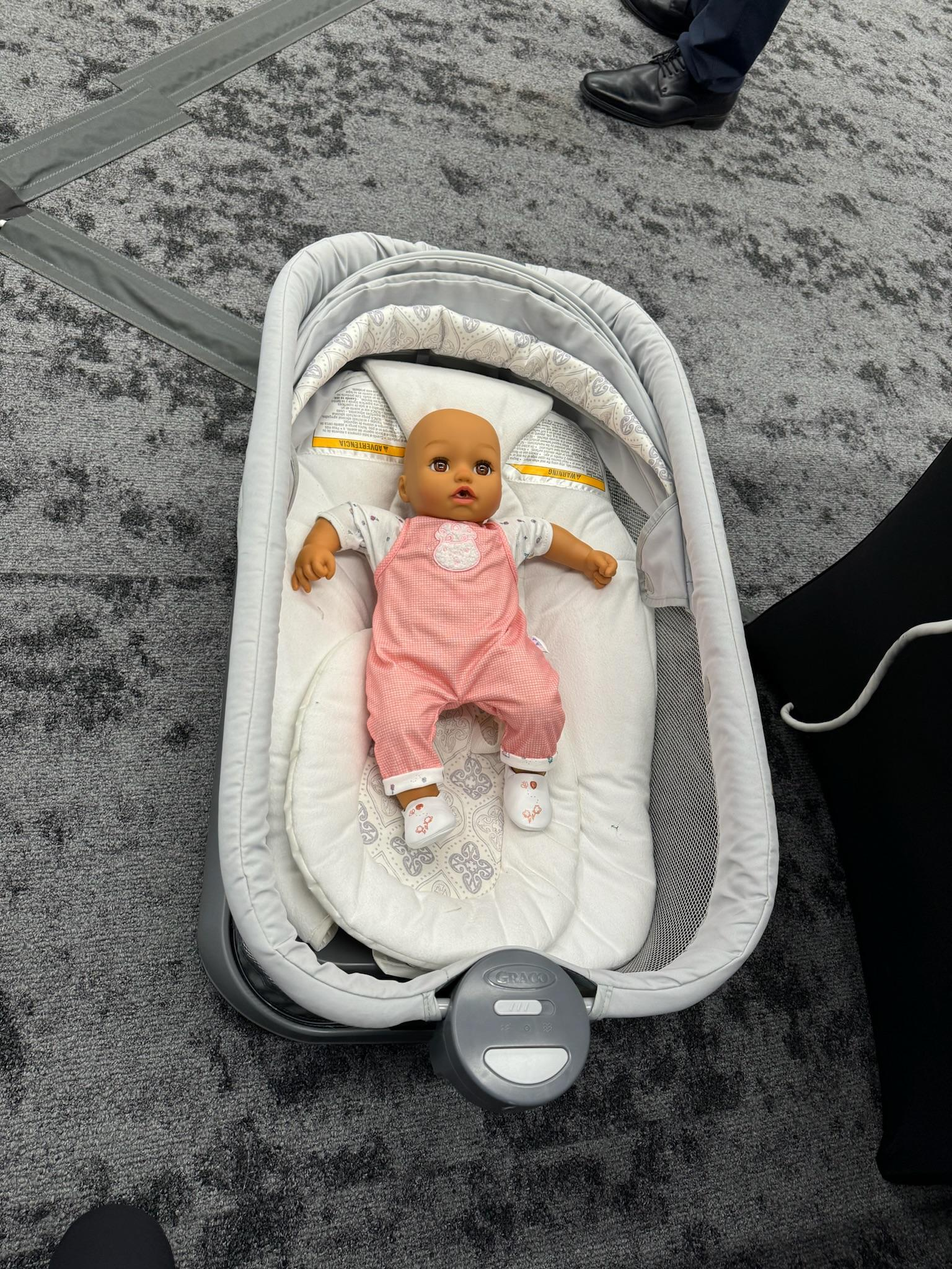baby: (302, 401, 620, 852)
